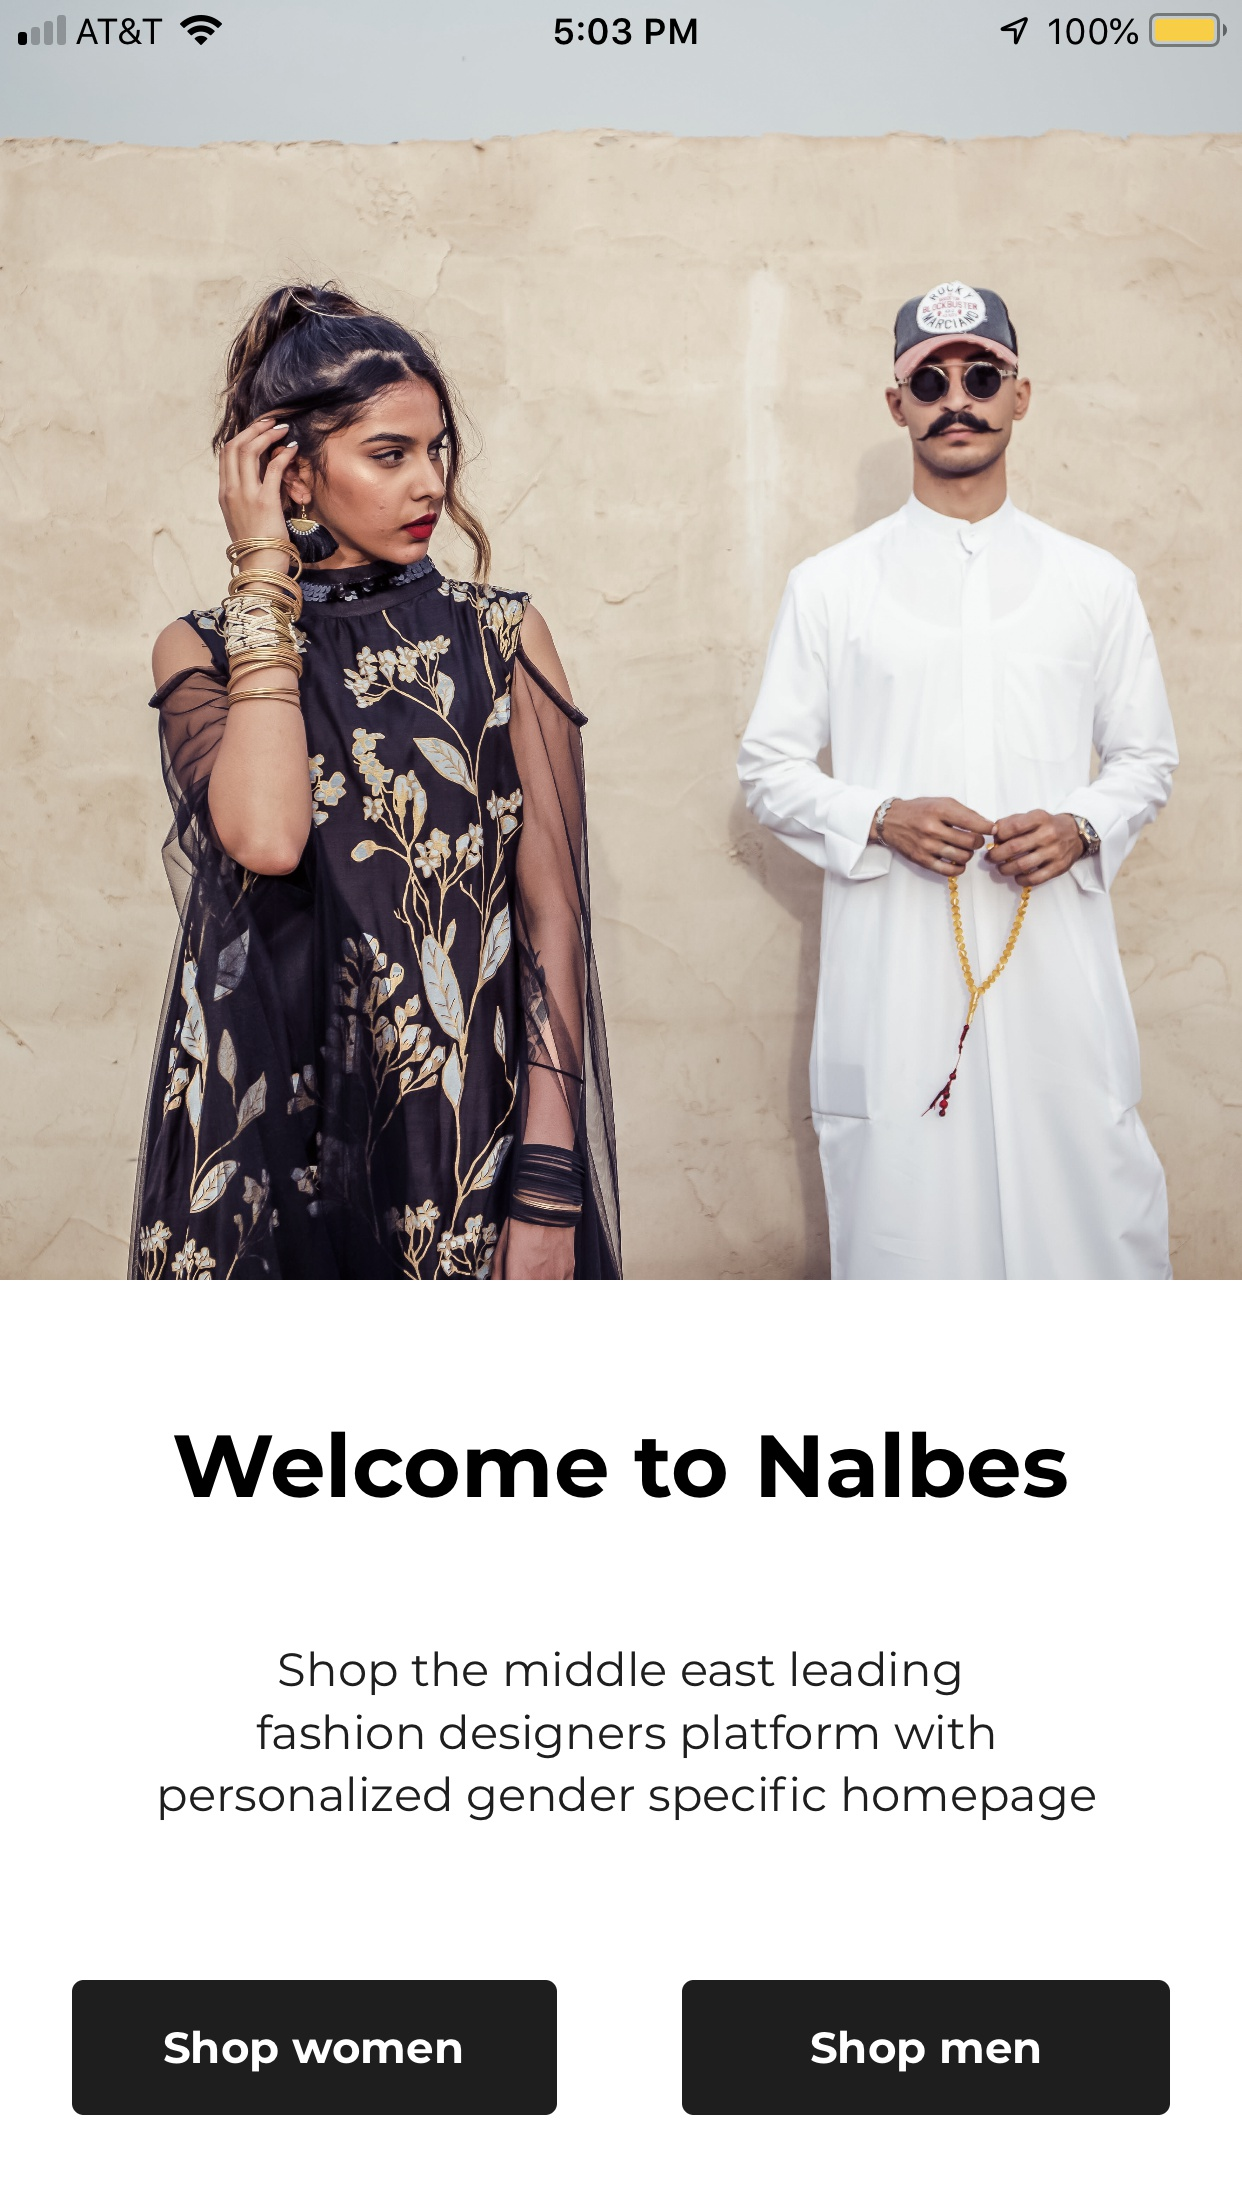Image: (2, 127, 1242, 1280)
Text: (161, 1651, 1096, 1821), (174, 1430, 1068, 1498)
TextButton: (682, 1981, 1171, 2115), (71, 1981, 558, 2115)
UpperTaskBar: (2, 2, 1242, 49)
